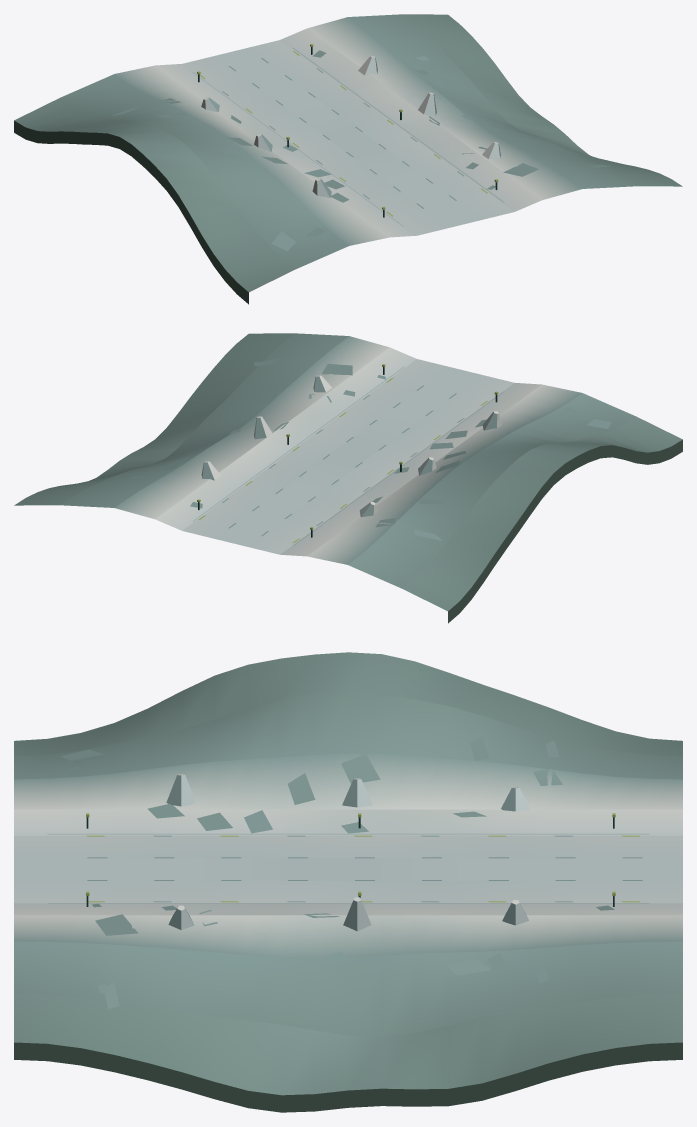
Rendered from 08-summit.glb.
3 views of the same model, one above another, from view 1: azimuth 30°, elevation 25°; view 2: azimuth 150°, elevation 25°; view 3: azimuth 270°, elevation 25° (orthographic). The views are drawn at different scales.
Parts seen in each view (by area): view 1: summit; view 2: summit; view 3: summit.
Boxes of the visible parts, x1=… form: summit: x1=14, y1=14, x2=682, y2=304; summit: x1=14, y1=333, x2=682, y2=623; summit: x1=14, y1=652, x2=682, y2=1112.
Bounding box in the file's own units: 32 × 7.86 × 30.
